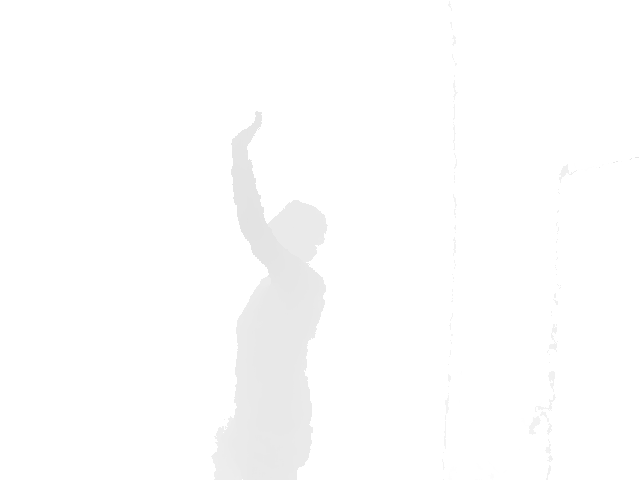hand: (229, 109, 263, 150)
head: (258, 200, 328, 269)
person: (211, 110, 329, 479)
